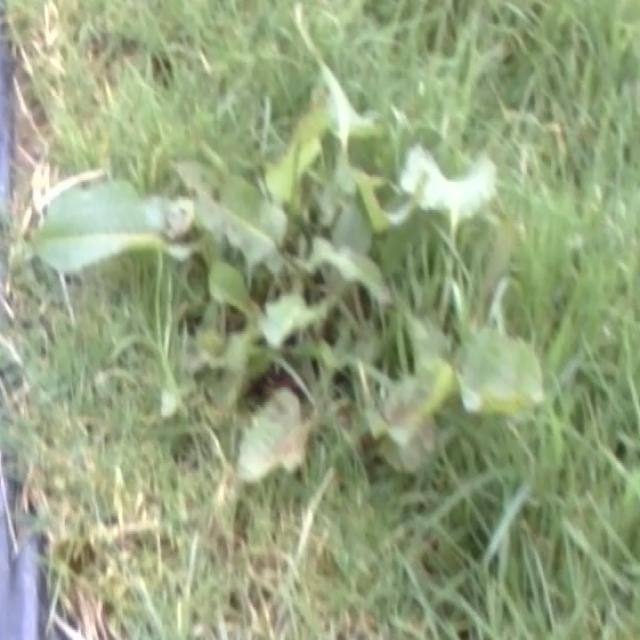organic waste: (44, 68, 588, 493), (186, 80, 436, 411)
